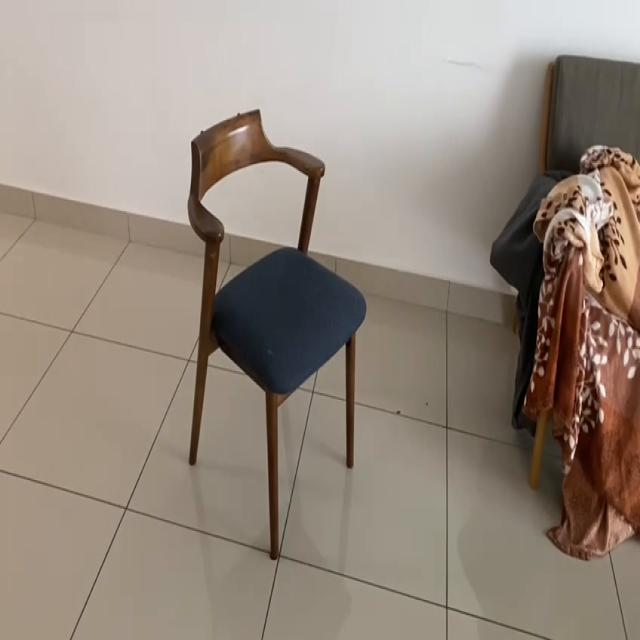Chair: (168, 109, 373, 508)
